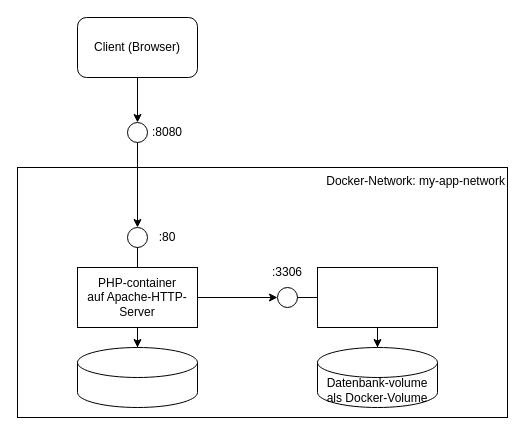
Some shapes in this 525 by 435 pixel diagram are drawn without their labels. Each missing label, with the centre of its shape:
MySQL-Datenbank: the point at 377,297
Web-Code als Bind-Mount: the point at 137,377
